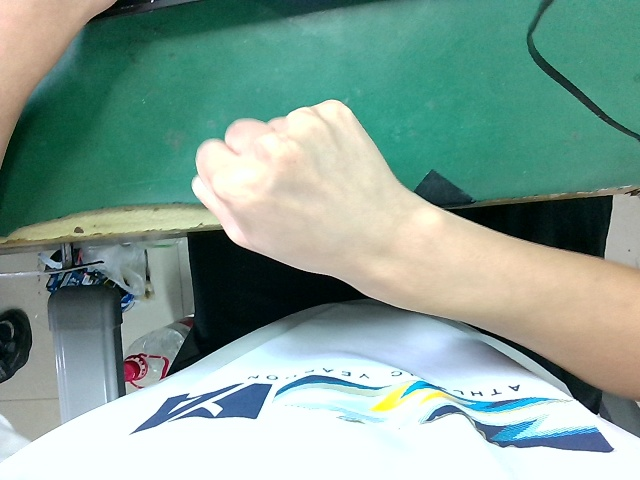stone: (189, 93, 403, 290)
